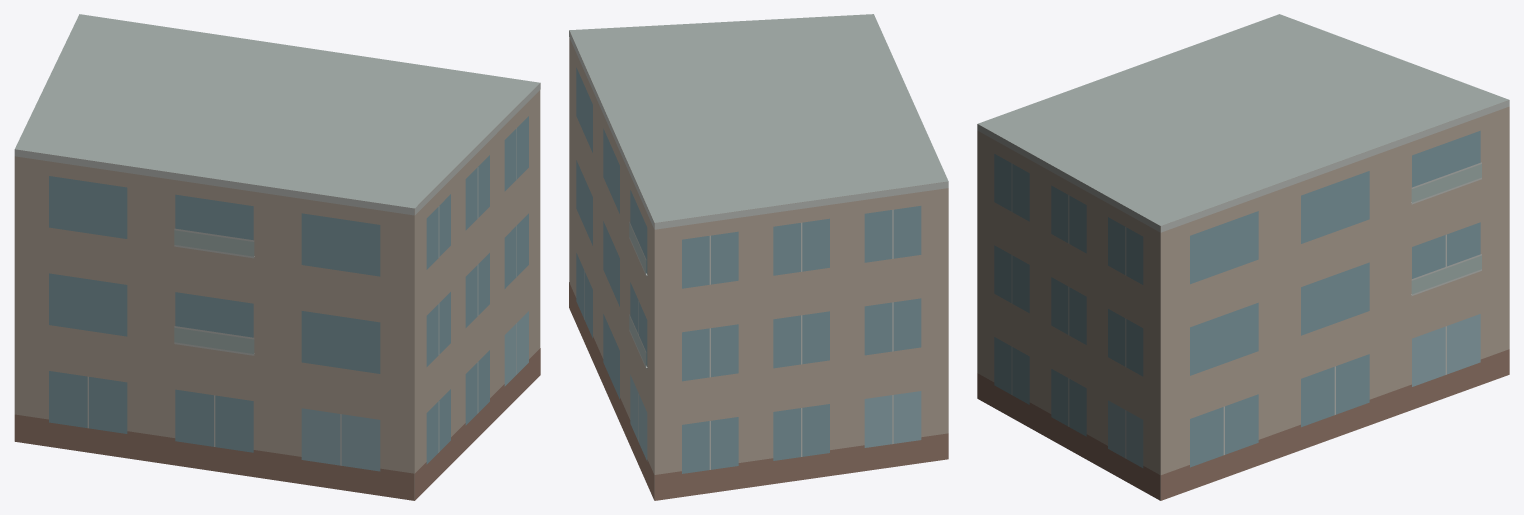
File: survey-upis-32826291.glb
3 renders of one model, left to right at view 1: azimuth 30°, elevation 25°; view 2: azimuth 150°, elevation 25°; view 3: azimuth 270°, elevation 25°, orthographic. The views are drawn at different scales.
Parts seen in each view (by area): view 1: survey-upis-32826291.tmp; view 2: survey-upis-32826291.tmp; view 3: survey-upis-32826291.tmp.
Part boxes in pixels (left/top/right/bottom): survey-upis-32826291.tmp: left=14, top=14, right=540, bottom=500; survey-upis-32826291.tmp: left=569, top=14, right=948, bottom=500; survey-upis-32826291.tmp: left=977, top=14, right=1509, bottom=500.
Bounding box in the file's own units: 16.73 × 10.1 × 17.73.
